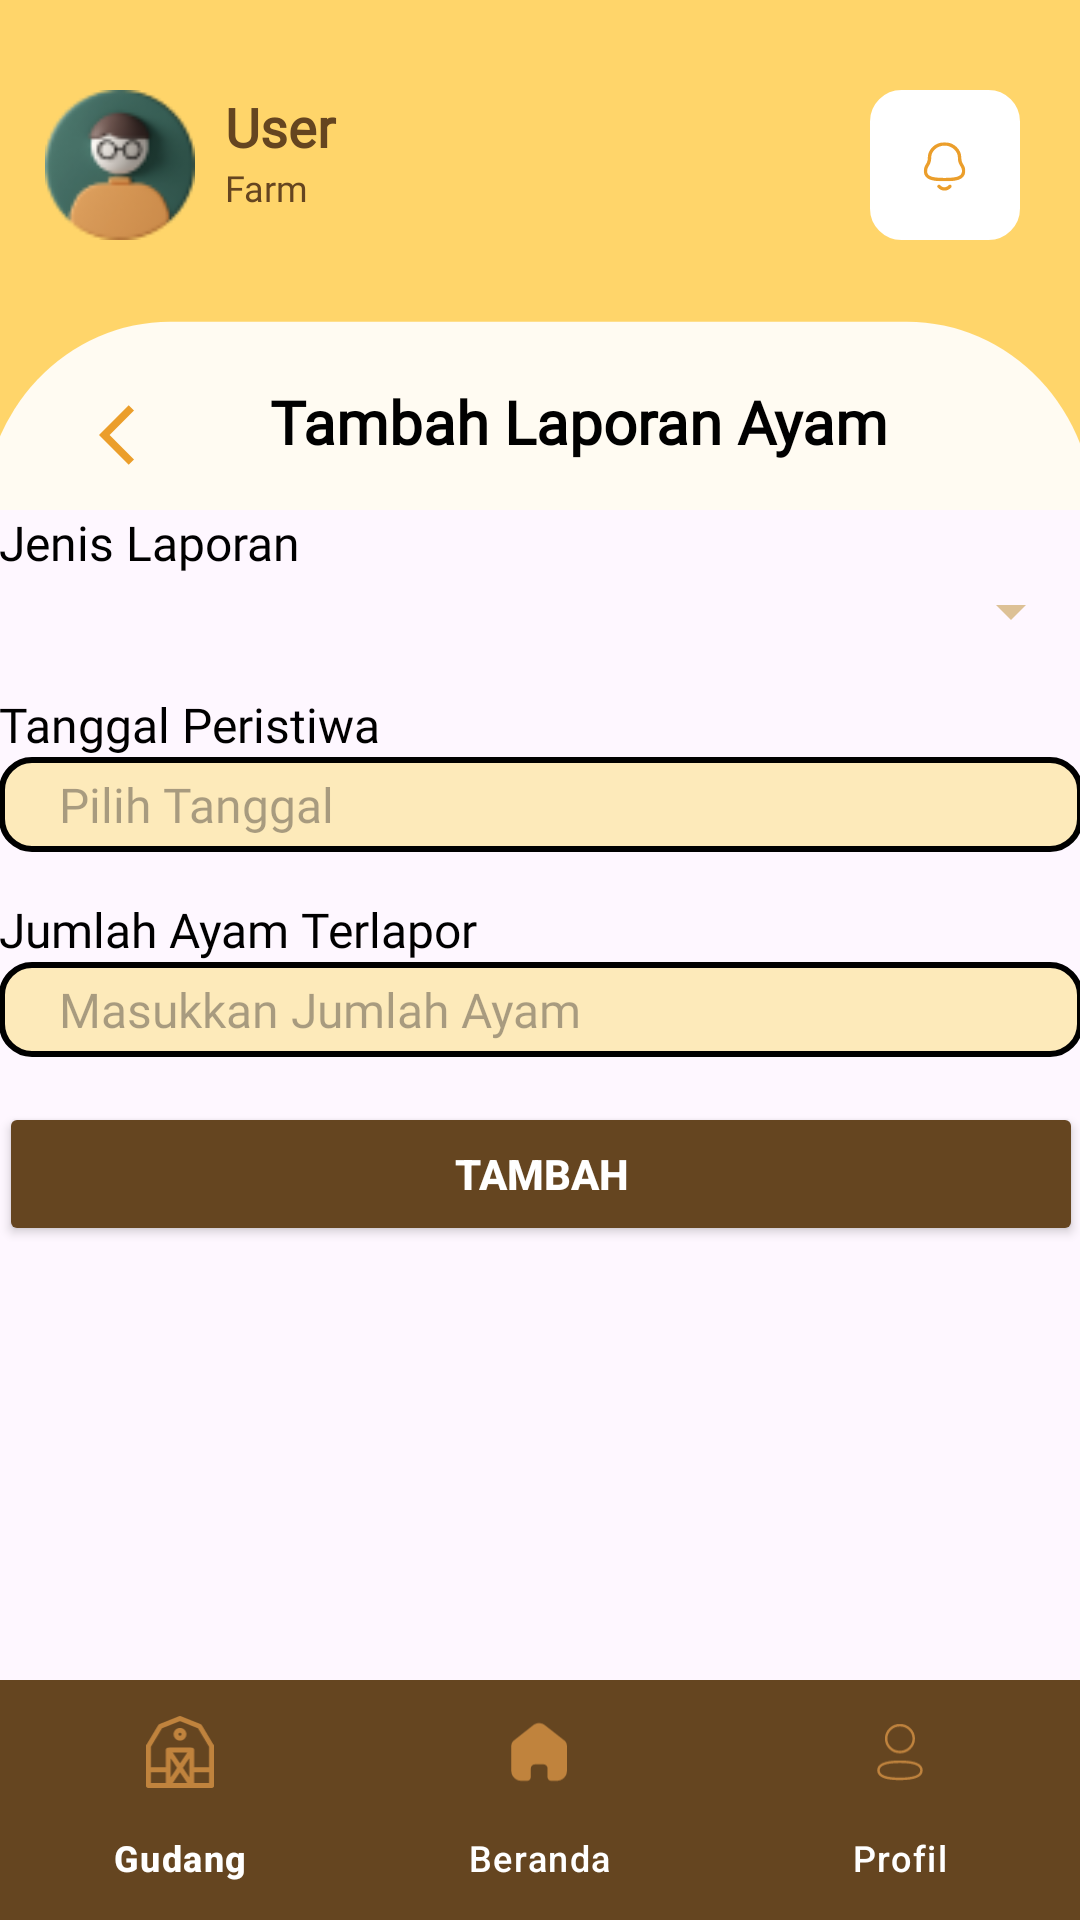

Icons on this 1080w x 1920h Android screen, each with its box as (x1, y1, x2, y2):
bell: (870, 90, 1020, 240)
profile pic: (45, 90, 195, 240)
